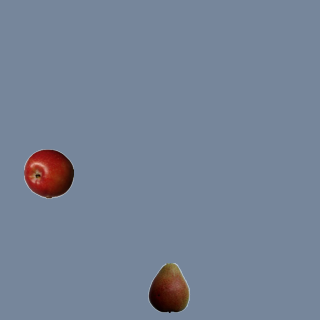Apple Braeburn: (23, 148, 73, 198)
Pear Forelle: (143, 262, 193, 312)
